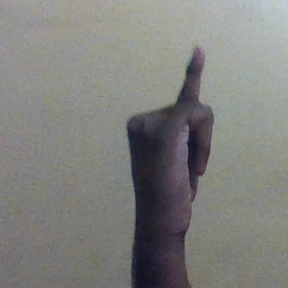I: (121, 44, 221, 224)
